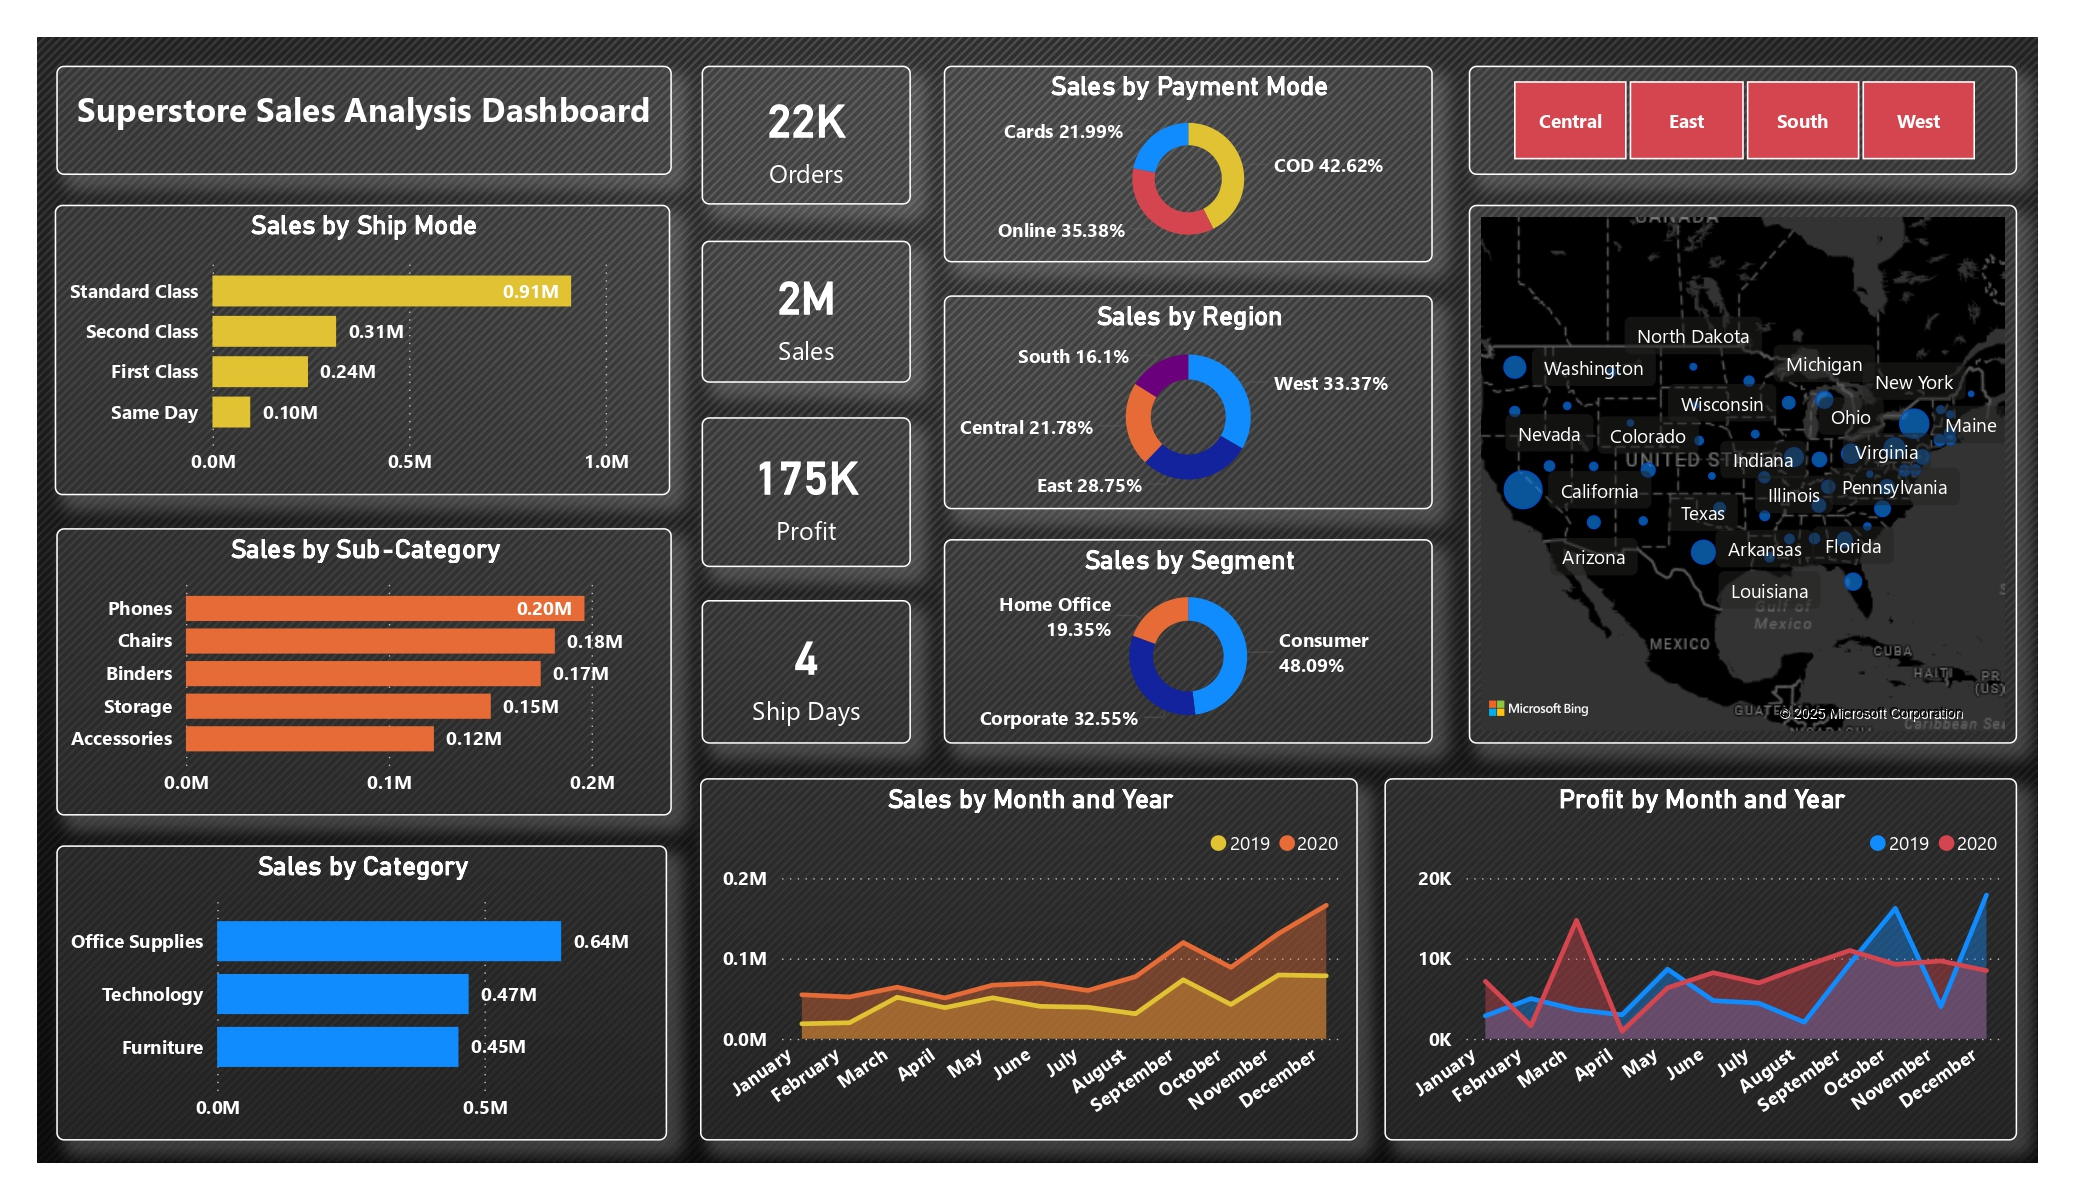

The page's visual inventory and layout, read from the dashboard file:
{"tool":"powerbi","page":{"name":"Sales Analysis","canvas":[1280,720],"ordinal":0},"visuals":[{"type":"textbox","box":[12.1,17.5,393.9,70.2],"z":0},{"type":"card","fields":{"Values":["Sum(superstore_sales_data.Quantity)"]},"box":[425,17.5,133.6,89],"z":1000},{"type":"card","fields":{"Values":["Sum(superstore_sales_data.Sales)"]},"box":[425,129.5,133.6,91.7],"z":2000},{"type":"card","fields":{"Values":["Sum(superstore_sales_data.Profit)"]},"box":[425,242.8,133.6,95.8],"z":3000},{"type":"card","fields":{"Values":["Avg(superstore_sales_data.Ship Days)"]},"box":[425,360.2,133.6,91.7],"z":4000},{"type":"donutChart","title":"Sales by Payment Mode","fields":{"Y":["Sum(superstore_sales_data.Sales)"],"Category":["superstore_sales_data.Payment Mode"]},"box":[580.1,17.5,313,126.8],"z":5000},{"type":"donutChart","title":"Sales by Region","fields":{"Y":["Sum(superstore_sales_data.Sales)"],"Category":["superstore_sales_data.Region"]},"box":[580.1,164.6,313,137.6],"z":6000},{"type":"donutChart","title":"Sales by Segment","fields":{"Y":["Sum(superstore_sales_data.Sales)"],"Category":["superstore_sales_data.Segment"]},"box":[580.1,321.1,313,130.9],"z":7000},{"type":"barChart","title":"Sales by Ship Mode","fields":{"Y":["Sum(superstore_sales_data.Sales)"],"Category":["superstore_sales_data.Ship Mode"]},"box":[10.8,106.6,393.9,186.2],"z":8000},{"type":"barChart","title":"Sales by Category","fields":{"Y":["Sum(superstore_sales_data.Sales)"],"Category":["superstore_sales_data.Category"]},"box":[12.1,516.7,391.2,188.9],"z":9000},{"type":"barChart","title":"Sales by Sub-Category","fields":{"Category":["superstore_sales_data.Sub-Category"],"Y":["Sum(superstore_sales_data.Sales)"]},"box":[12.1,314.3,393.9,183.5],"z":10000},{"type":"areaChart","title":"Sales by Month and Year","fields":{"Category":["superstore_sales_data.Order Date.Variation.Date Hierarchy.Month"],"Y":["Sum(superstore_sales_data.Sales)"],"Series":["superstore_sales_data.Order Date.Variation.Date Hierarchy.Year"]},"box":[423.6,473.5,420.9,232],"z":11000},{"type":"areaChart","title":"Profit by Month and Year","fields":{"Category":["superstore_sales_data.Order Date.Variation.Date Hierarchy.Month"],"Y":["Sum(superstore_sales_data.Profit)"],"Series":["superstore_sales_data.Order Date.Variation.Date Hierarchy.Year"]},"box":[862.1,473.5,404.7,232],"z":12000},{"type":"map","fields":{"Size":["Sum(superstore_sales_data.Sales)"],"Category":["superstore_sales_data.State"]},"box":[916,106.6,350.8,345.4],"z":13000},{"type":"slicer","fields":{"Values":["superstore_sales_data.Region"]},"box":[916,17.5,350.8,70.2],"z":14000}]}

Visuals, with their boxes in screenshot pixels (x1, y1, x2, y2):
textbox: select_region(56, 65, 672, 175)
card - Sum(superstore_sales_data.Quantity): select_region(702, 65, 910, 204)
card - Sum(superstore_sales_data.Sales): select_region(702, 240, 910, 383)
card - Sum(superstore_sales_data.Profit): select_region(702, 417, 910, 567)
card - Avg(superstore_sales_data.Ship Days): select_region(702, 600, 910, 744)
"Sales by Payment Mode" donutChart: select_region(944, 65, 1433, 263)
"Sales by Region" donutChart: select_region(944, 295, 1433, 510)
"Sales by Segment" donutChart: select_region(944, 539, 1433, 744)
"Sales by Ship Mode" barChart: select_region(54, 204, 670, 495)
"Sales by Category" barChart: select_region(56, 845, 668, 1140)
"Sales by Sub-Category" barChart: select_region(56, 529, 672, 815)
"Sales by Month and Year" areaChart: select_region(699, 777, 1357, 1140)
"Profit by Month and Year" areaChart: select_region(1385, 777, 2017, 1140)
map - Sum(superstore_sales_data.Sales) x superstore_sales_data.State: select_region(1469, 204, 2017, 744)
slicer - superstore_sales_data.Region: select_region(1469, 65, 2017, 175)
